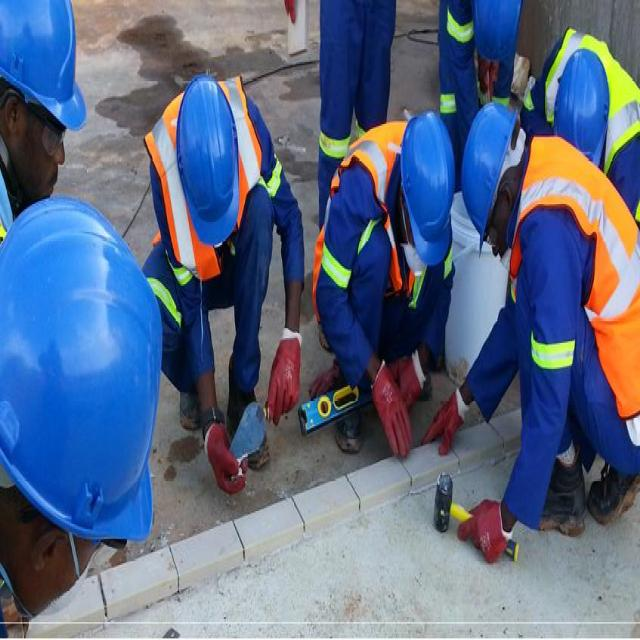Reflective-Jacket: (516, 46, 640, 426), (140, 70, 272, 284), (317, 116, 404, 294)
Safety-Helmet: (0, 199, 166, 545), (2, 0, 88, 134), (399, 103, 455, 264), (460, 95, 519, 246)
